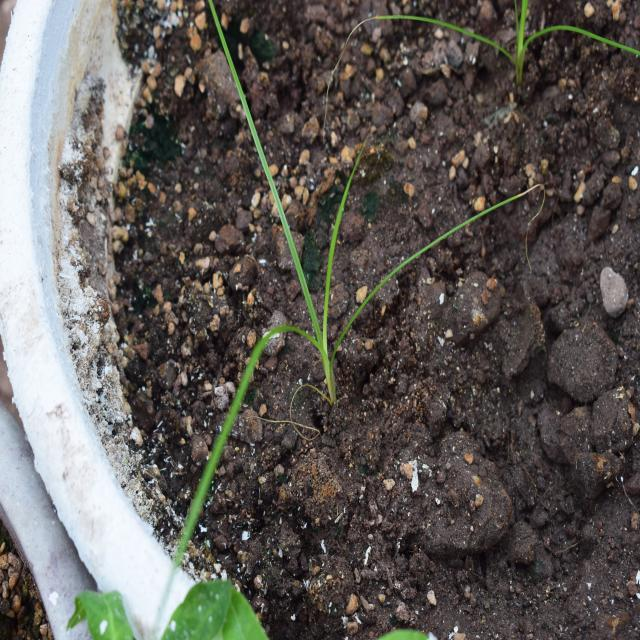sedge: (128, 14, 469, 533)
